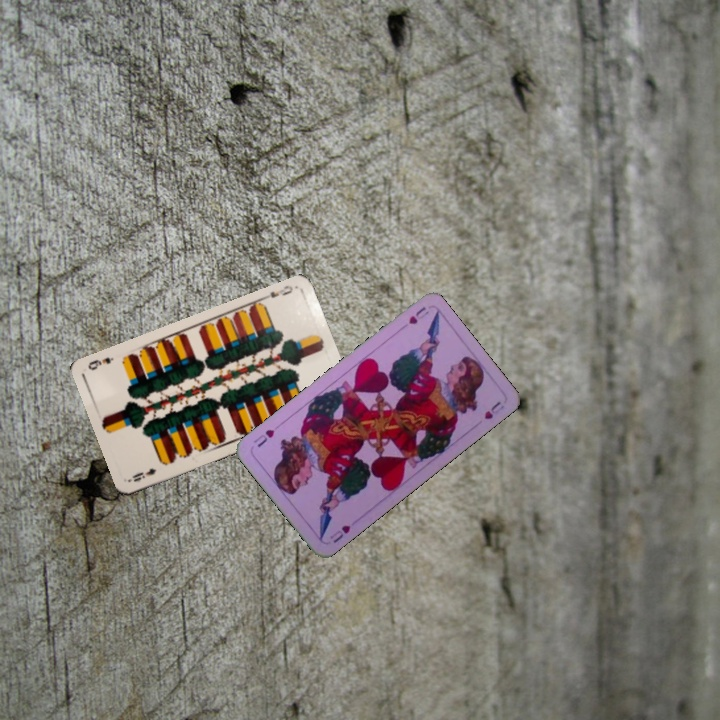E9: (259, 281, 295, 302), (127, 464, 159, 484)
HU: (325, 521, 353, 546), (404, 302, 431, 327)
